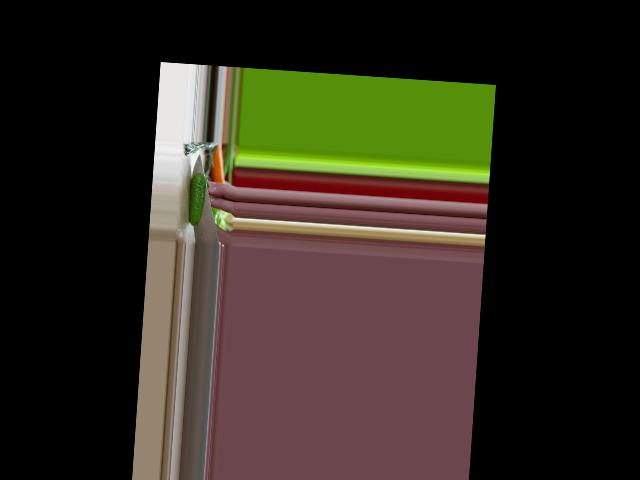cucumber: (187, 172, 206, 226)
